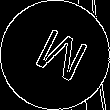M_SW: (23, 22, 87, 88)
